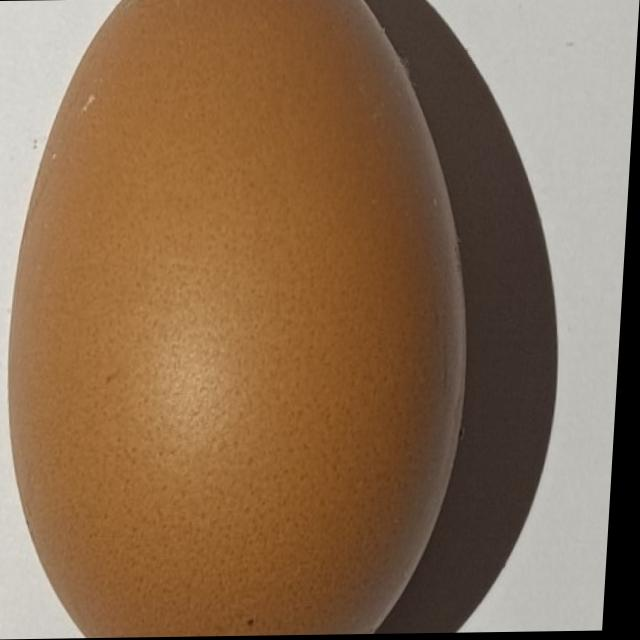fresh: (0, 0, 496, 640)
